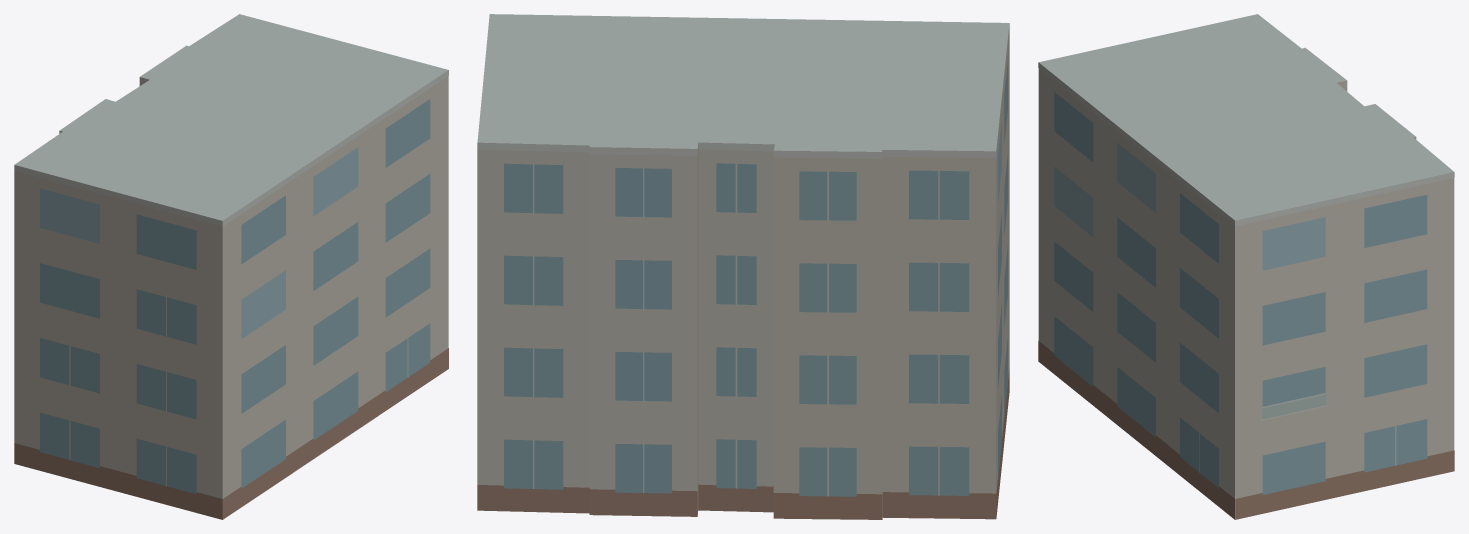
Rendered from survey-upis-32827762.glb.
The picture shows the model from 3 angles, left to right: view 1: azimuth 30°, elevation 25°; view 2: azimuth 150°, elevation 25°; view 3: azimuth 270°, elevation 25°; orthographic projection. The views are drawn at different scales.
Visible parts, largest first — view 1: survey-upis-32827762.tmp; view 2: survey-upis-32827762.tmp; view 3: survey-upis-32827762.tmp.
Part boxes in pixels (x1,y1,x2,y2): survey-upis-32827762.tmp: (14, 14, 448, 519); survey-upis-32827762.tmp: (477, 14, 1009, 519); survey-upis-32827762.tmp: (1038, 14, 1454, 519).
Bounding box in the file's own units: 18.99 × 12.82 × 16.16.
